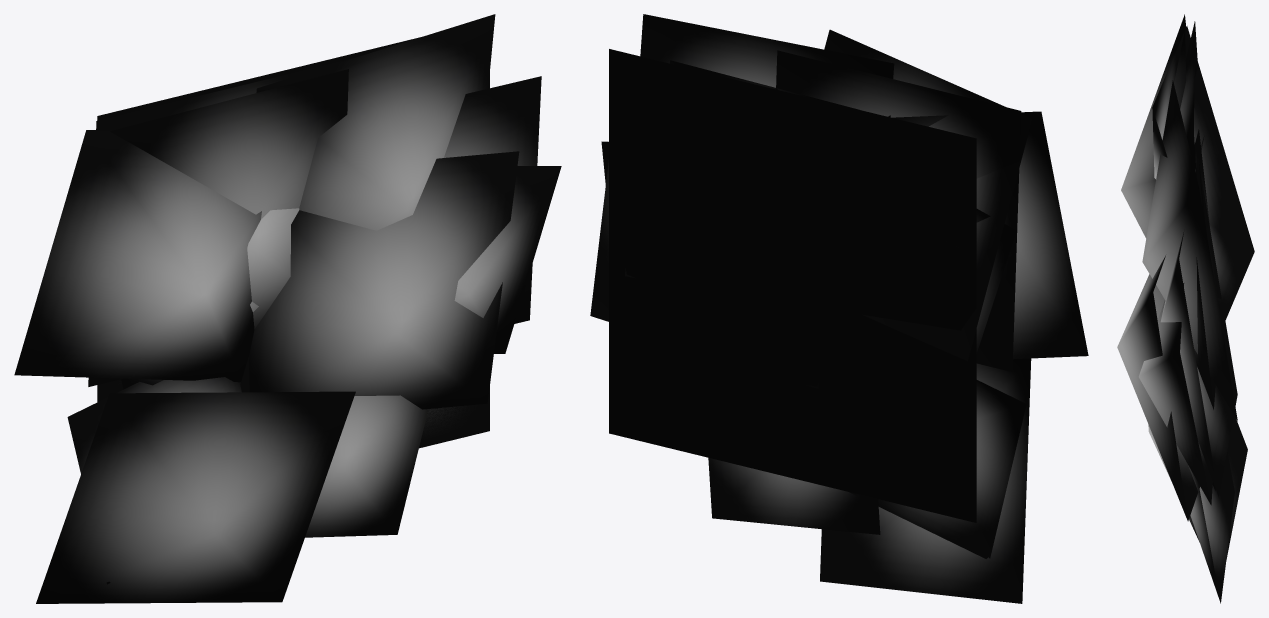
The model's file is unique_tiles.glb.
3 renders of one model, left to right at view 1: azimuth 30°, elevation 25°; view 2: azimuth 150°, elevation 25°; view 3: azimuth 270°, elevation 25°, orthographic. The views are drawn at different scales.
Parts seen in each view (by area): view 1: rsrc.world.tileset.sky islands night.unique_tiles-Variant[fl (×13); view 2: rsrc.world.tileset.sky islands night.unique_tiles-Variant[fl (×7); view 3: rsrc.world.tileset.sky islands night.unique_tiles-Variant[fl (×9).
Boxes of the visible parts, <box> form: rsrc.world.tileset.sky islands night.unique_tiles-Variant[fl (×13): <box>14,14,561,603</box>; rsrc.world.tileset.sky islands night.unique_tiles-Variant[fl (×7): <box>590,14,1088,603</box>; rsrc.world.tileset.sky islands night.unique_tiles-Variant[fl (×9): <box>1117,14,1254,603</box>.
Size of the model in its own units: 1.37 by 1.36 by 0.3435.
1 material, 1 textured.
